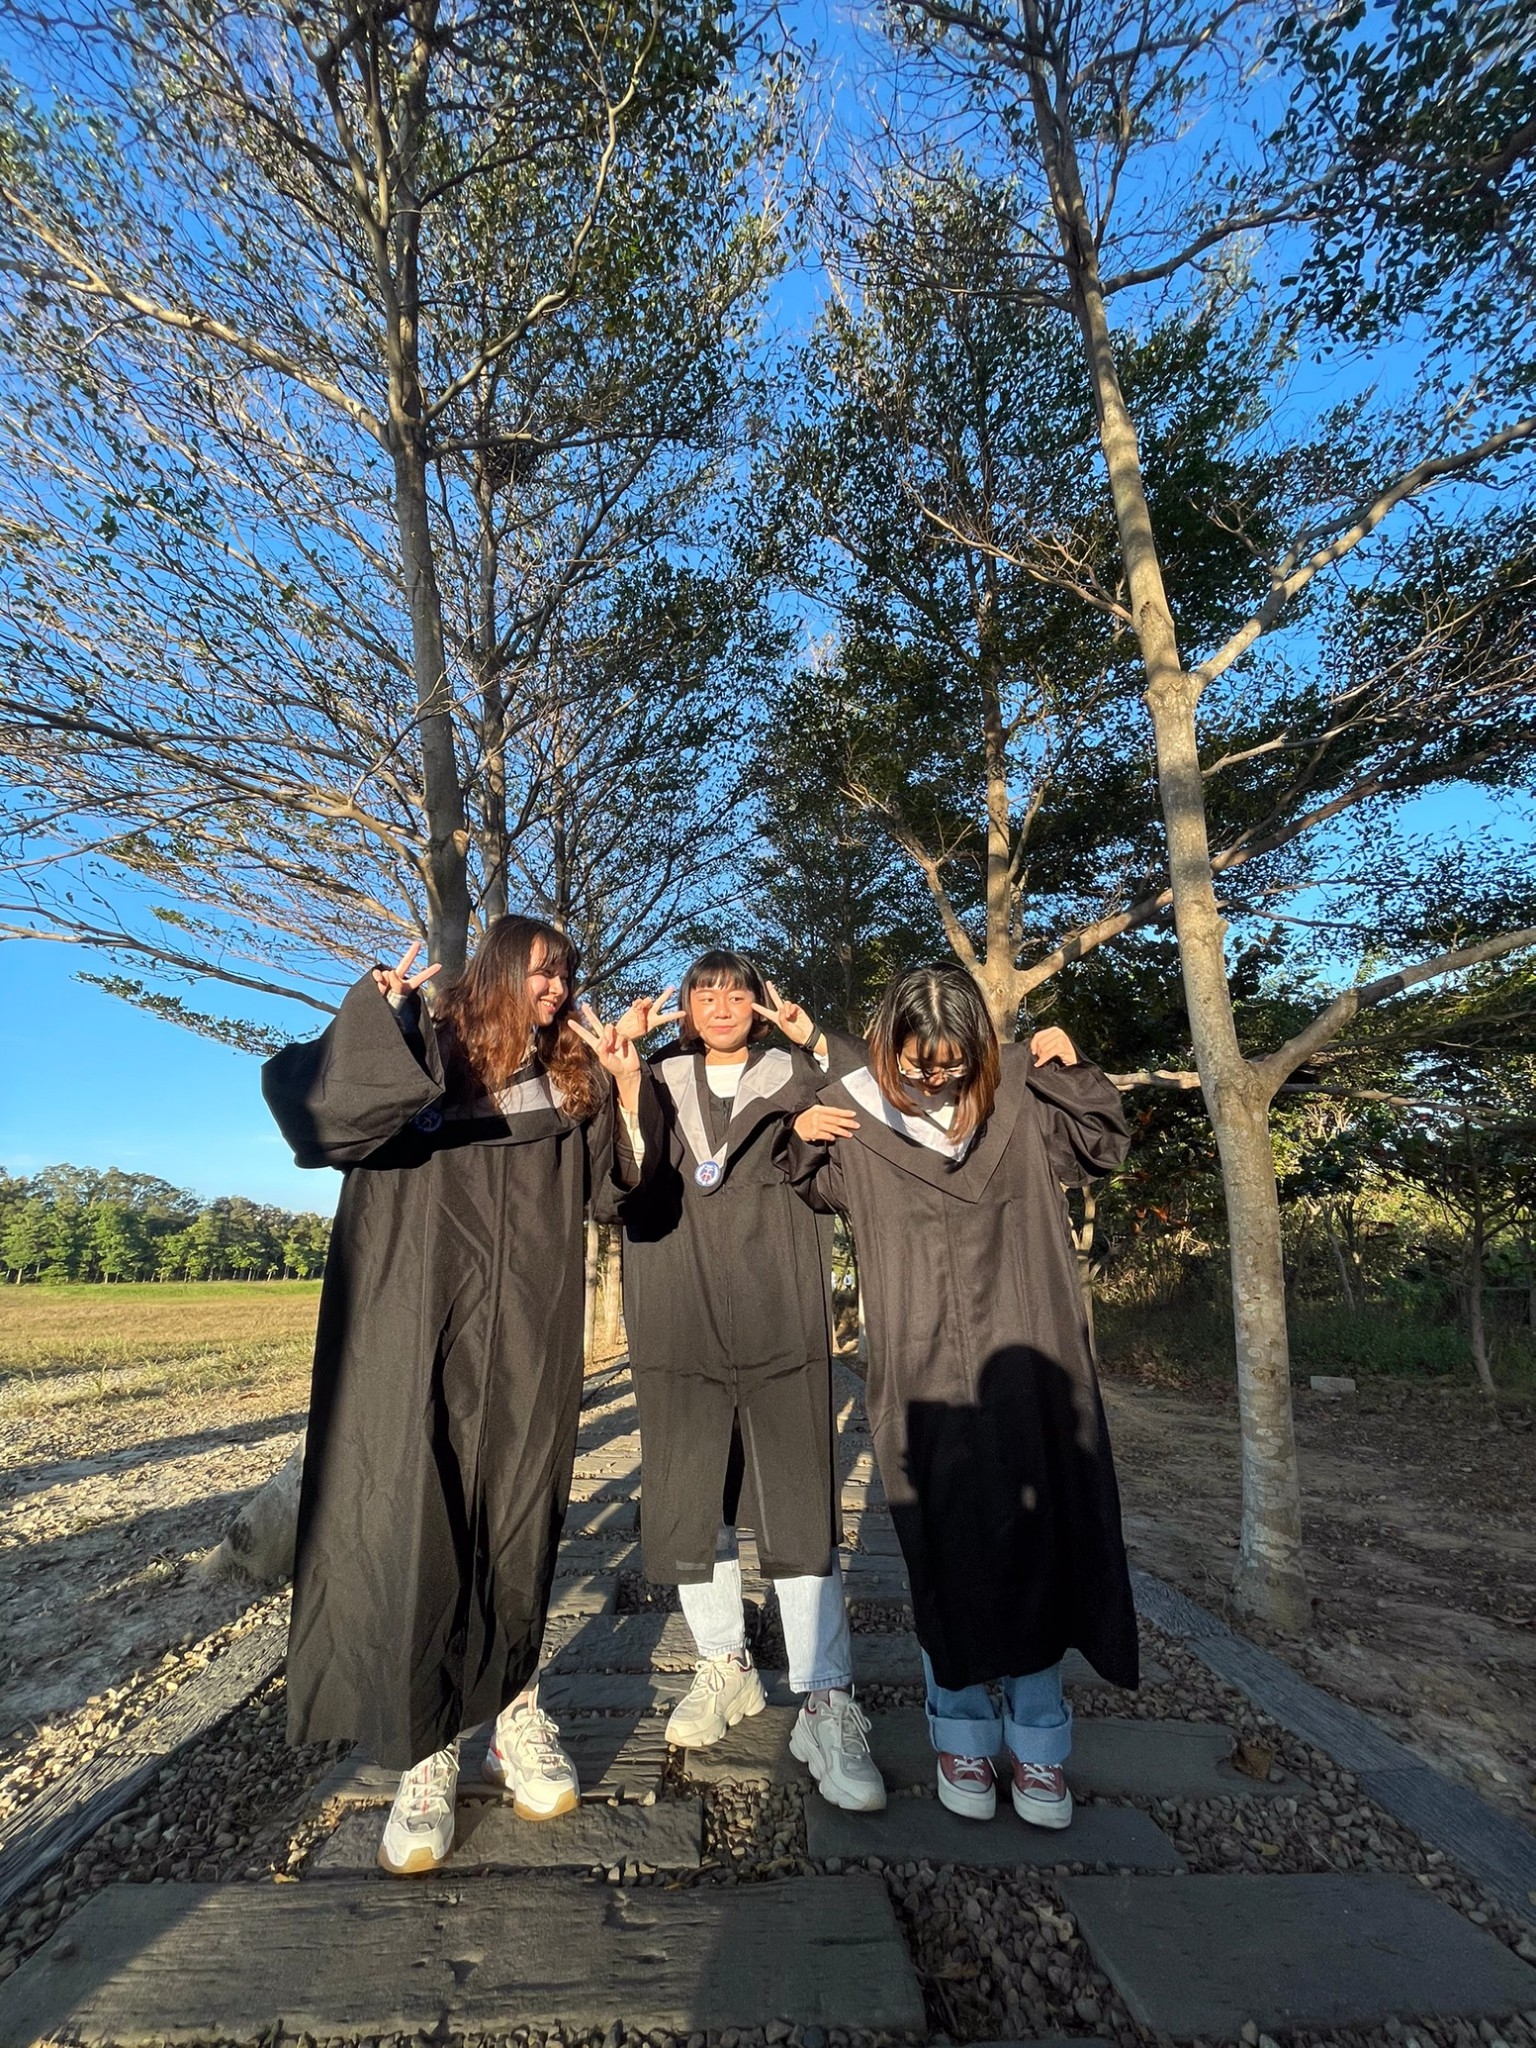people: (818, 980, 1098, 1831), (347, 912, 595, 1854), (627, 960, 895, 1805)
